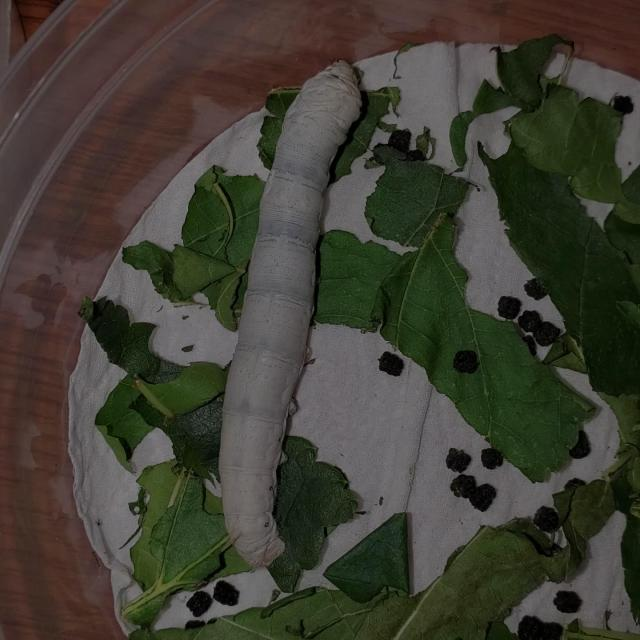Healthy: (206, 54, 376, 574)
